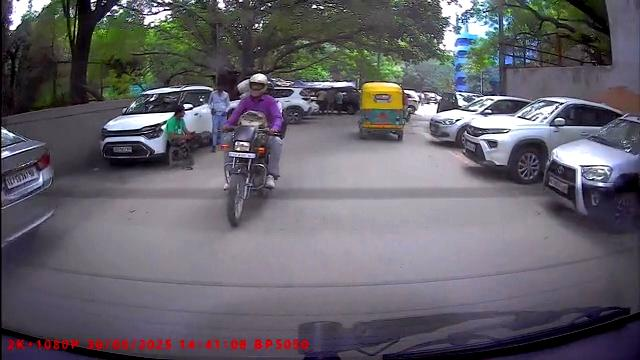motorcycle_with_helmet: (217, 72, 283, 230)
